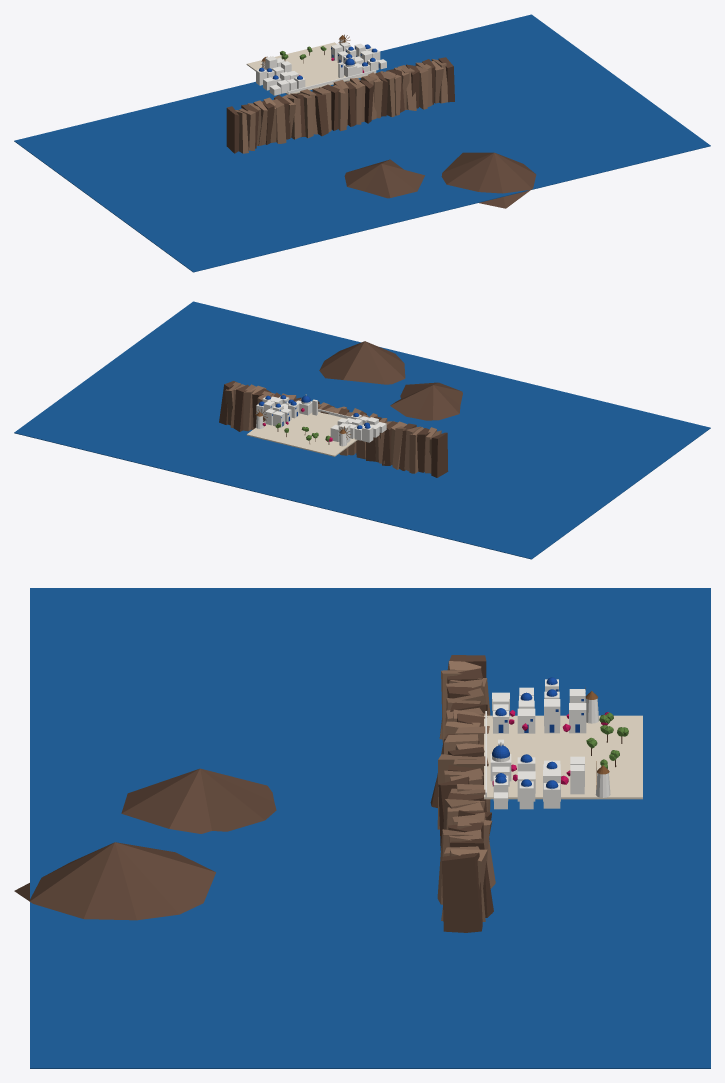
Rendered from Escenario_Santorini.fbx.
3 renders of one model, top to bottom at view 1: azimuth 30°, elevation 25°; view 2: azimuth 150°, elevation 25°; view 3: azimuth 270°, elevation 25°, orthographic. The views are drawn at different scales.
Visible parts, largest first — view 1: Escenario_Santorini_Mar, Escenario_Santorini_AcantiladoOscuro, Escenario_Santorini_Acantilado, Escenario_Santorini_Blanco, Escenario_Santorini_Terraza; view 2: Escenario_Santorini_Mar, Escenario_Santorini_AcantiladoOscuro, Escenario_Santorini_Acantilado, Escenario_Santorini_Blanco, Escenario_Santorini_Terraza; view 3: Escenario_Santorini_Mar, Escenario_Santorini_AcantiladoOscuro, Escenario_Santorini_Terraza, Escenario_Santorini_Acantilado, Escenario_Santorini_Blanco, Escenario_Santorini_Azul.
Boxes of the visible parts, x1,y1,x2,y2 form: Escenario_Santorini_Mar: (14,14,710,272); Escenario_Santorini_AcantiladoOscuro: (226,57,536,208); Escenario_Santorini_Acantilado: (235,59,447,153); Escenario_Santorini_Blanco: (256,39,386,95); Escenario_Santorini_Terraza: (246,42,375,94); Escenario_Santorini_Mar: (14,301,710,559); Escenario_Santorini_AcantiladoOscuro: (219,341,462,477); Escenario_Santorini_Acantilado: (225,382,441,473); Escenario_Santorini_Blanco: (256,394,386,446); Escenario_Santorini_Terraza: (246,411,357,456); Escenario_Santorini_Mar: (30,588,710,1068); Escenario_Santorini_AcantiladoOscuro: (14,655,493,932); Escenario_Santorini_Terraza: (484,715,642,799); Escenario_Santorini_Acantilado: (437,661,495,921); Escenario_Santorini_Blanco: (485,679,610,809); Escenario_Santorini_Azul: (492,677,583,788).
Size of the model in its own units: 200 by 24.01 by 123.
